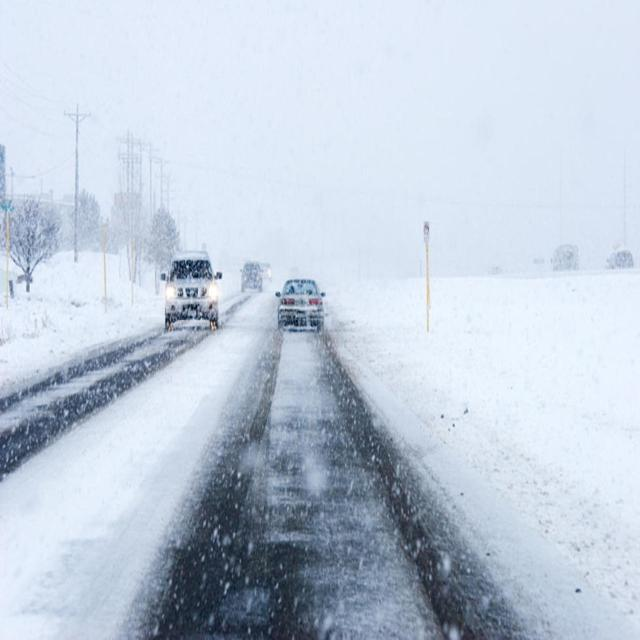car: (160, 248, 220, 332), (276, 278, 325, 333), (237, 262, 263, 292), (261, 261, 273, 282)
